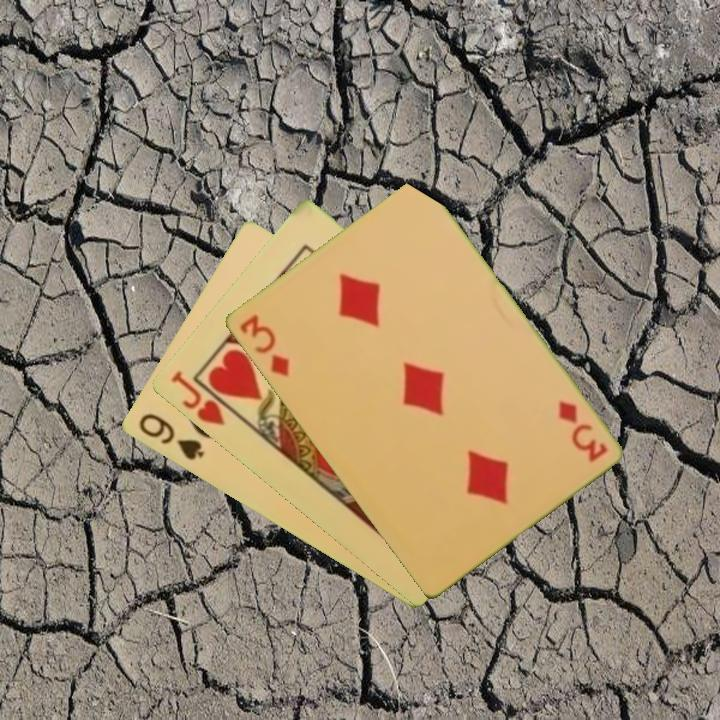3d: (235, 311, 292, 380), (554, 397, 610, 466)
9s: (134, 410, 207, 464)
Jh: (167, 367, 227, 429)
